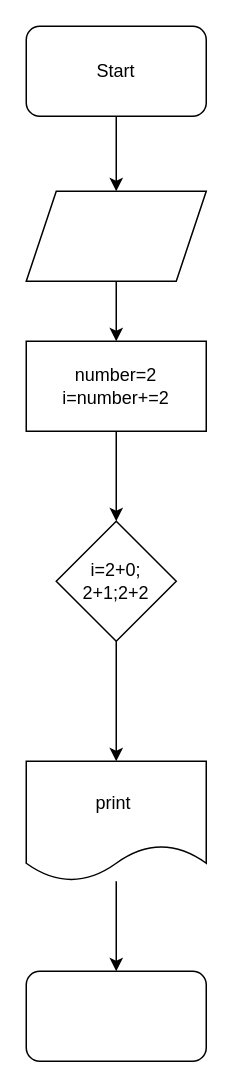
Image size: 233x1088. Some labels were removed from this diagram. The shapes that lost their labels are listed below. From the top down, each one's centre as x and y in pixels, then its label:
point 115,235: number
point 115,1015: End
